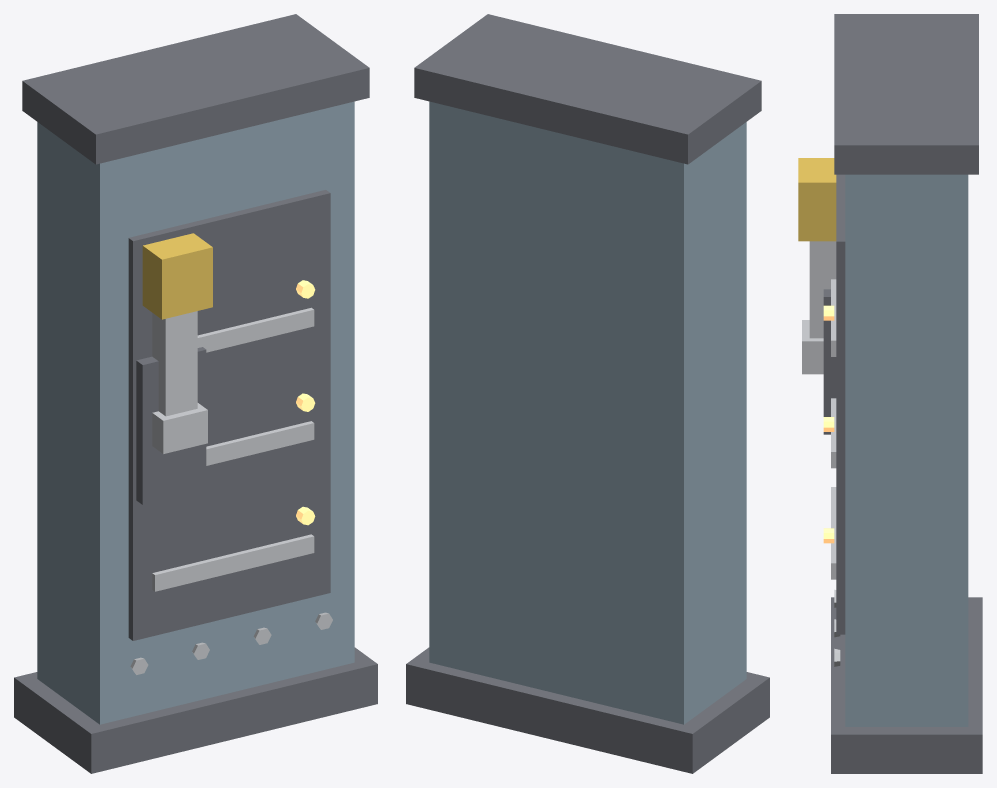
File: animated-mechanisms-kit-breaker-handle-aa9ea596__24639.glb
3 views of the same model, side by side, from view 1: azimuth 30°, elevation 25°; view 2: azimuth 150°, elevation 25°; view 3: azimuth 270°, elevation 25° (orthographic).
Visible parts, largest first — view 1: breaker-handle, handle/steel, handle/accent; view 2: breaker-handle; view 3: breaker-handle, handle/accent, handle/steel.
Part boxes in pixels (box(x1,y1,x2,y2)): breaker-handle: box(14, 14, 377, 773); handle/steel: box(152, 311, 207, 453); handle/accent: box(142, 233, 212, 319); breaker-handle: box(406, 14, 769, 773); breaker-handle: box(823, 14, 982, 773); handle/accent: box(798, 158, 836, 241); handle/steel: box(802, 241, 836, 374).
Bounding box in the file's own units: 0.9001 × 1.91 × 0.51.
